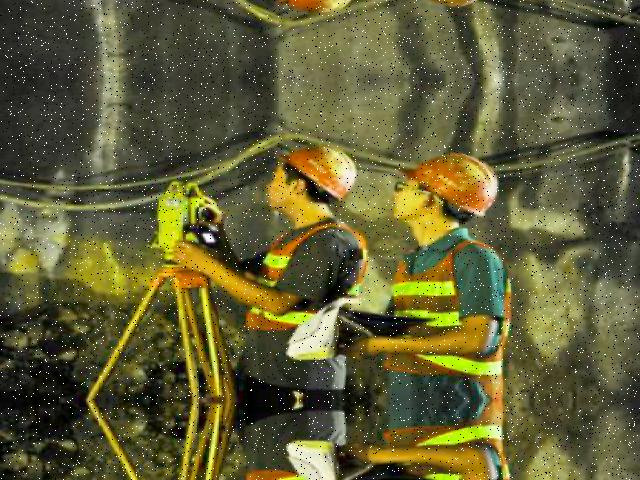Helmet: (406, 148, 506, 221), (278, 141, 364, 203)
